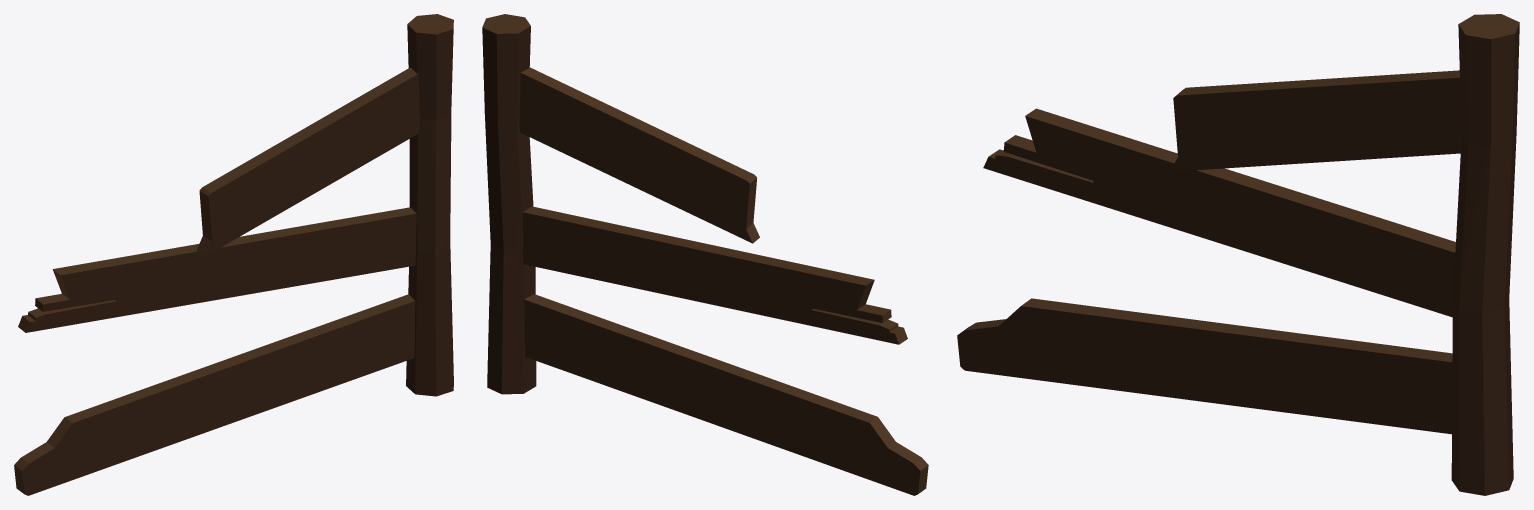
The model's file is Cave_Lair_Wooden_Timber_Fence_Broken_02.fbx.
3 views of the same model, side by side, from view 1: azimuth 30°, elevation 25°; view 2: azimuth 150°, elevation 25°; view 3: azimuth 330°, elevation 25° (orthographic). The views are drawn at different scales.
Visible parts, largest first — view 1: Cave_Lair_Wooden_Timber_Fence_Broken_02; view 2: Cave_Lair_Wooden_Timber_Fence_Broken_02; view 3: Cave_Lair_Wooden_Timber_Fence_Broken_02.
Part boxes in pixels (x1,y1,x2,y2): Cave_Lair_Wooden_Timber_Fence_Broken_02: [14, 14, 453, 495]; Cave_Lair_Wooden_Timber_Fence_Broken_02: [482, 14, 928, 495]; Cave_Lair_Wooden_Timber_Fence_Broken_02: [957, 14, 1519, 495].
Bounding box in the file's own units: 1.43 × 1.15 × 0.15.
